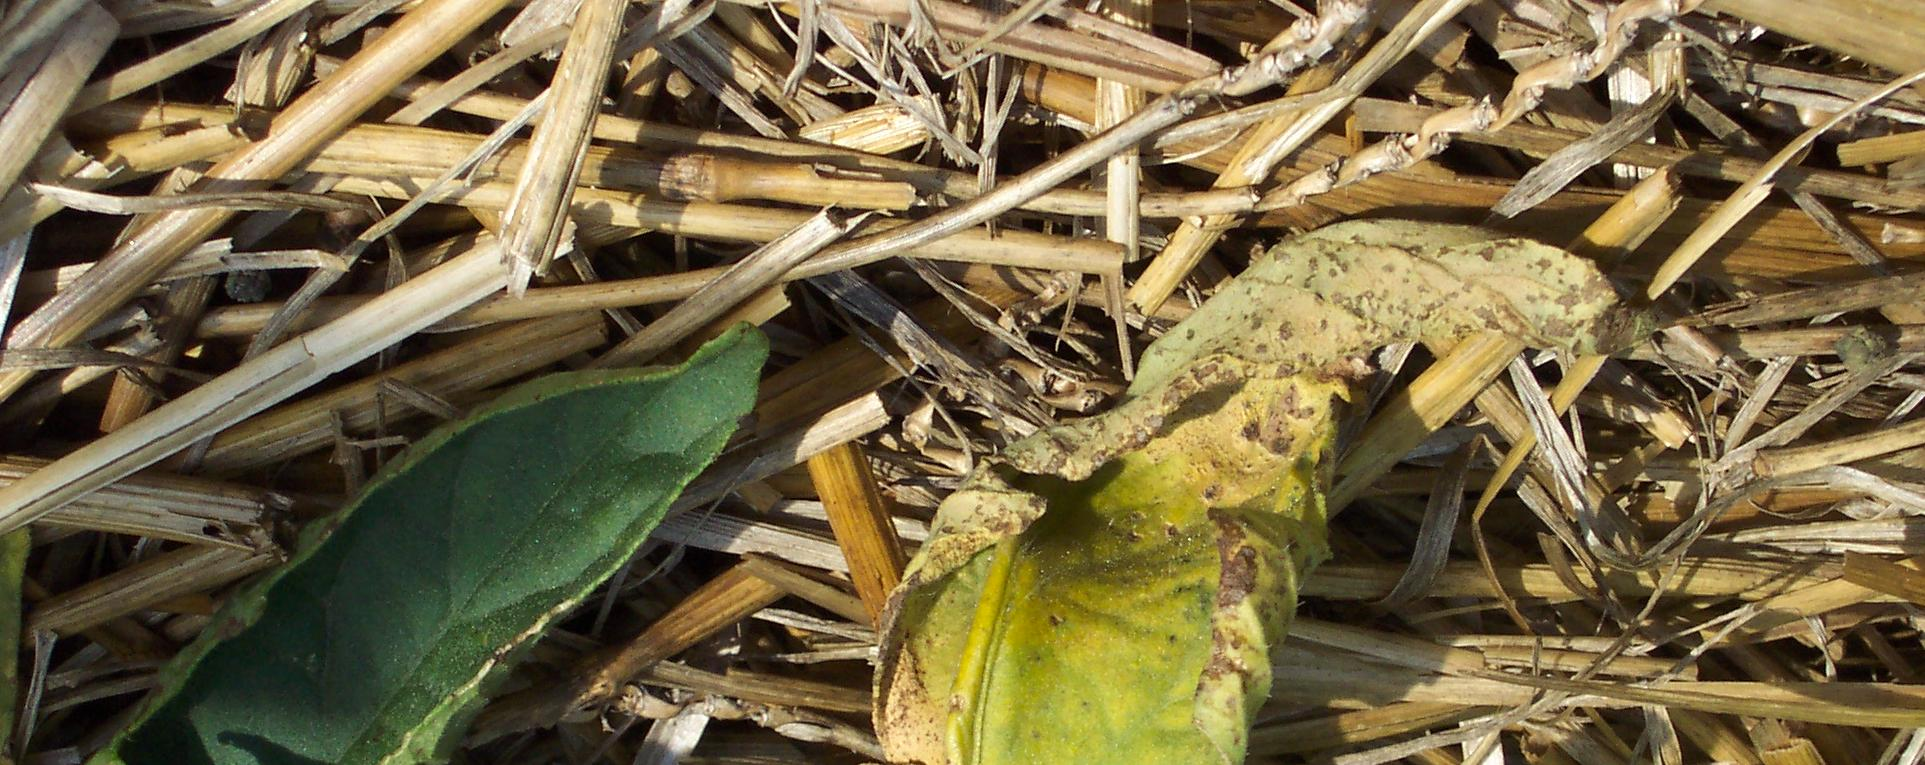Tomato Early blight leaf: (776, 227, 1612, 765)
